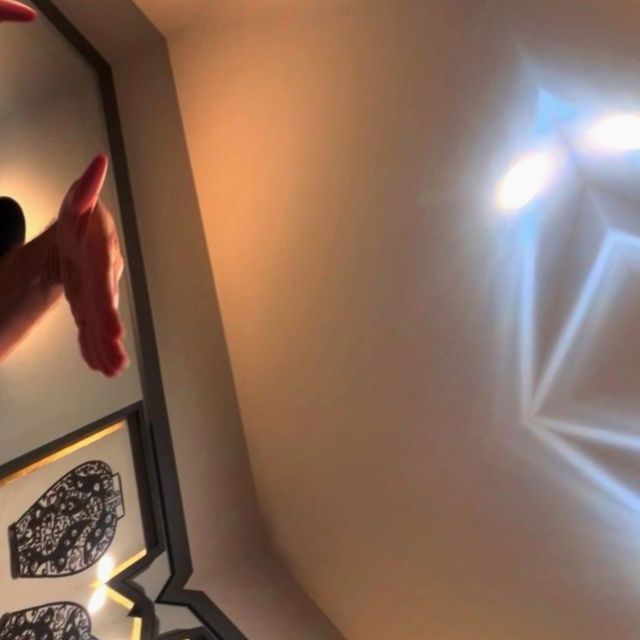Paper: (0, 0, 110, 112)
